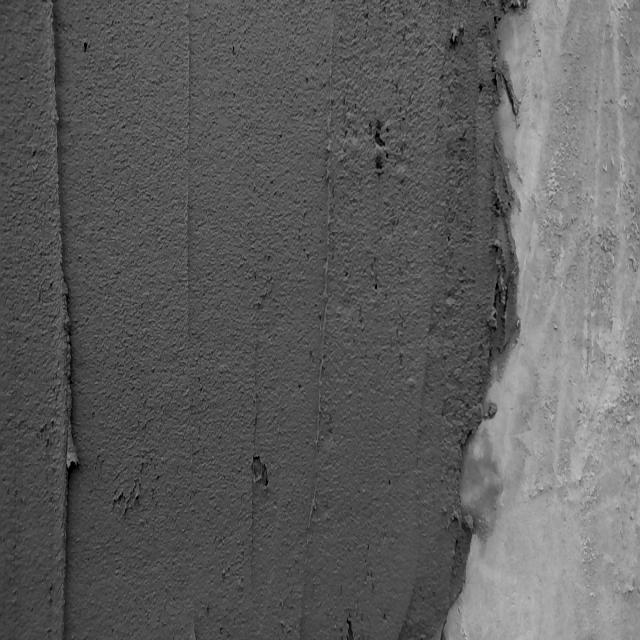trowels marks: (47, 7, 81, 640), (312, 9, 336, 540), (182, 16, 195, 376)
